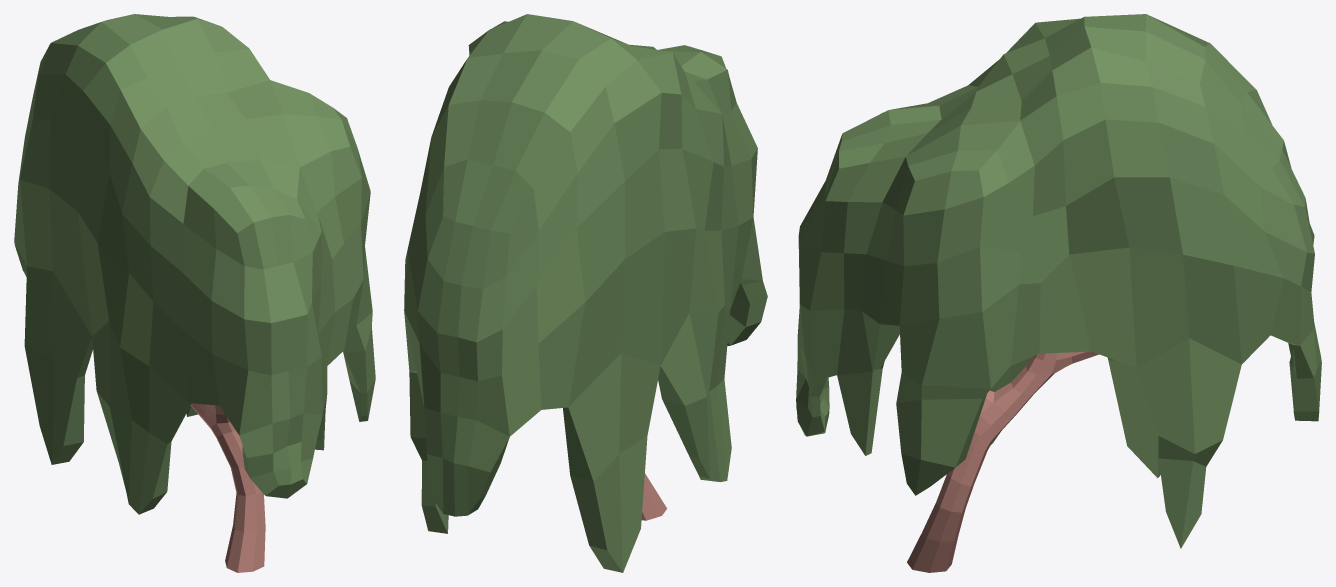
The model's file is willow.glb.
The picture shows the model from 3 angles, left to right: view 1: azimuth 30°, elevation 25°; view 2: azimuth 150°, elevation 25°; view 3: azimuth 270°, elevation 25°; orthographic projection. The views are drawn at different scales.
Visible parts, largest first — view 1: Willow_1; view 2: Willow_1; view 3: Willow_1.
Boxes of the visible parts, box(x1,y1,x2,y2) form: Willow_1: box(14, 14, 375, 572); Willow_1: box(404, 14, 767, 572); Willow_1: box(796, 14, 1321, 572).
Bounding box in the file's own units: 1.45 × 2.85 × 2.55.
